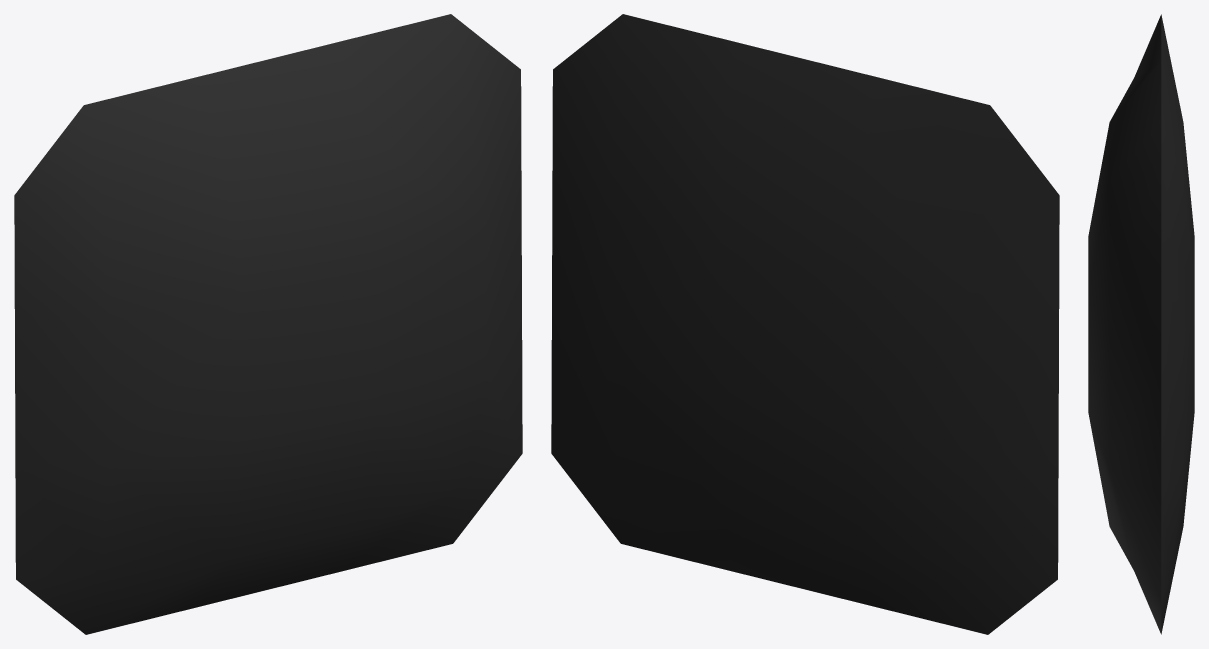
File: DarkGreyCushion.glb
3 renders of one model, left to right at view 1: azimuth 30°, elevation 25°; view 2: azimuth 150°, elevation 25°; view 3: azimuth 270°, elevation 25°, orthographic. The views are drawn at different scales.
Visible parts, largest first — view 1: cushion; view 2: cushion; view 3: cushion.
Part boxes in pixels (left/top/right/bottom): cushion: left=14, top=14, right=522, bottom=634; cushion: left=551, top=14, right=1059, bottom=634; cushion: left=1088, top=14, right=1194, bottom=634.
Size of the model in its own units: 0.6322 by 0.6322 by 0.1306.
Materials: 1 (1 with a texture image).
